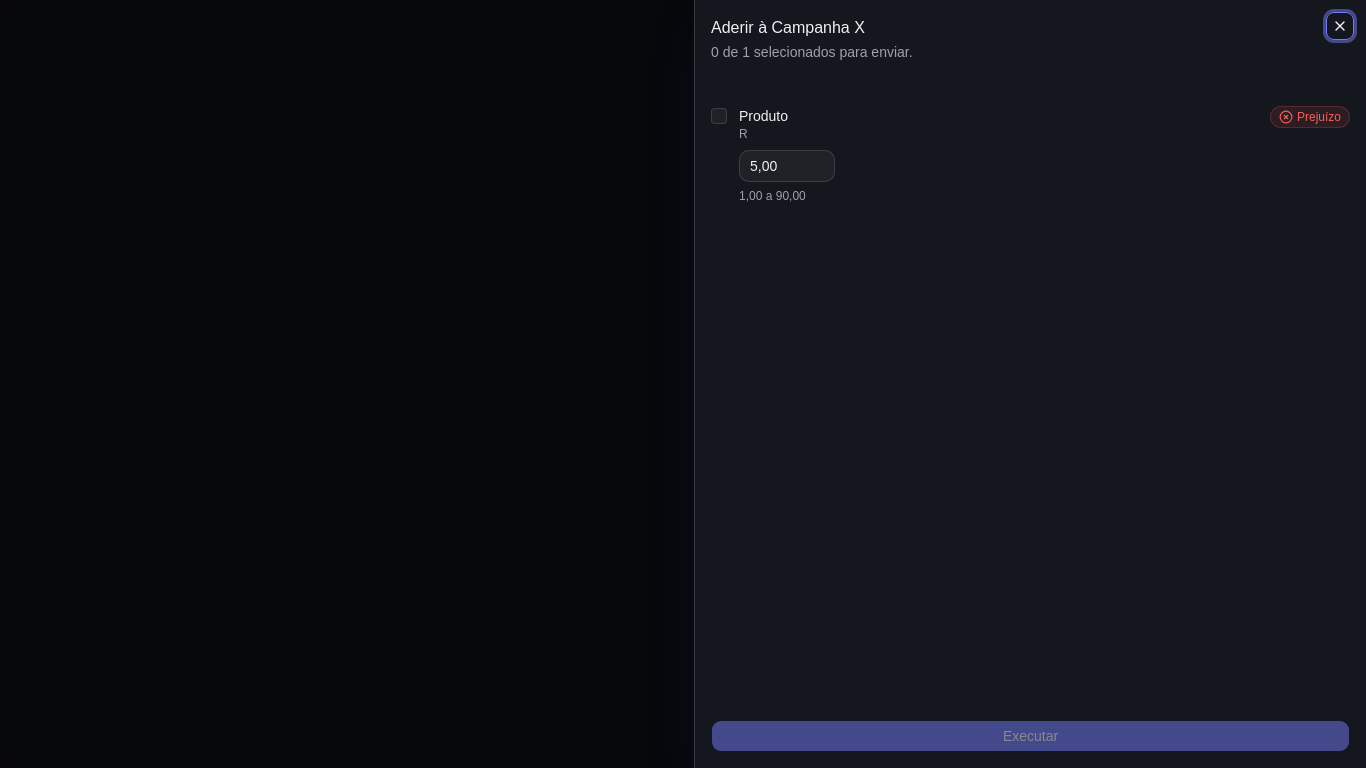
PreviewOperacao › item vermelho marcado exige o checkbox de risco para habilitar Executar
Click the checkbox named "Selecionar R" at (719, 116), box [711,108,727,124]
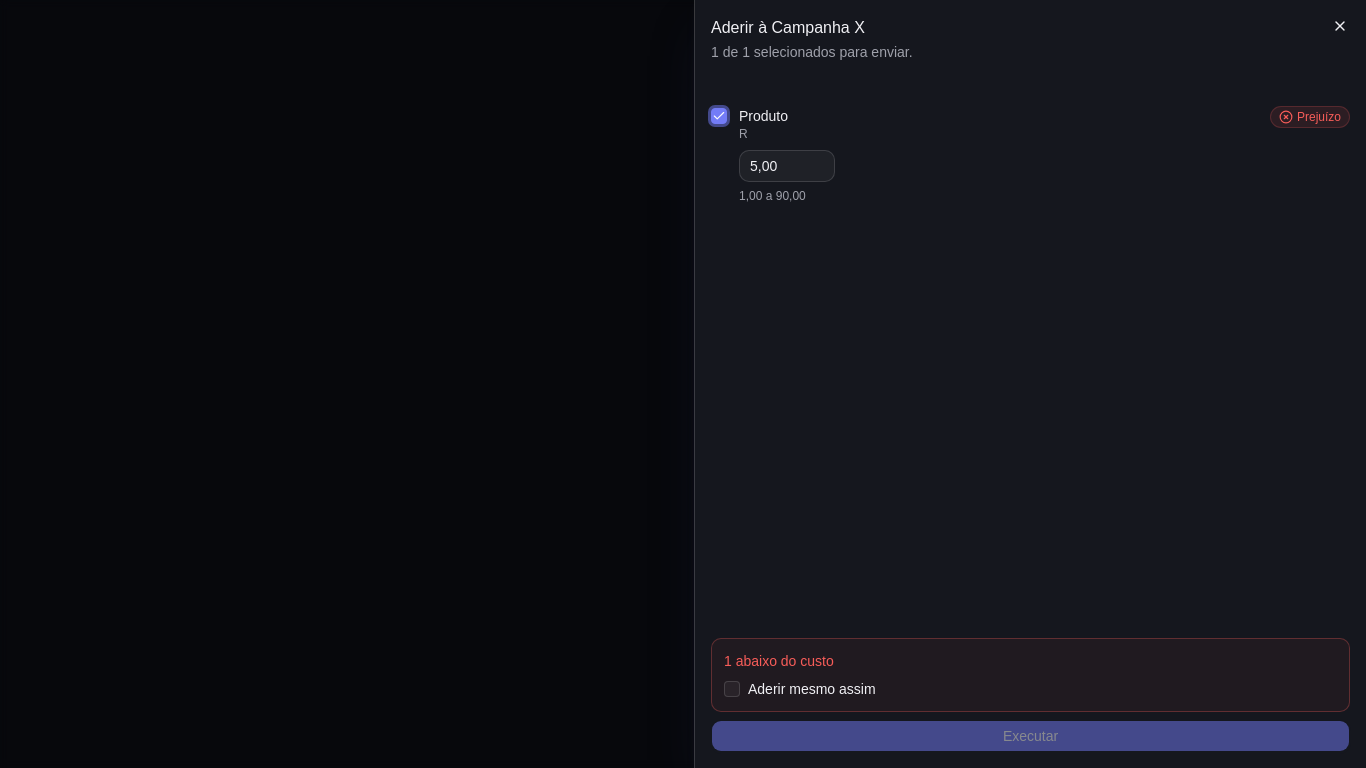
Expected: the button "Executar" is disabled, [711,720,1350,752]
Click the checkbox named "Aderir mesmo assim" at (732, 689), box [724,681,740,697]
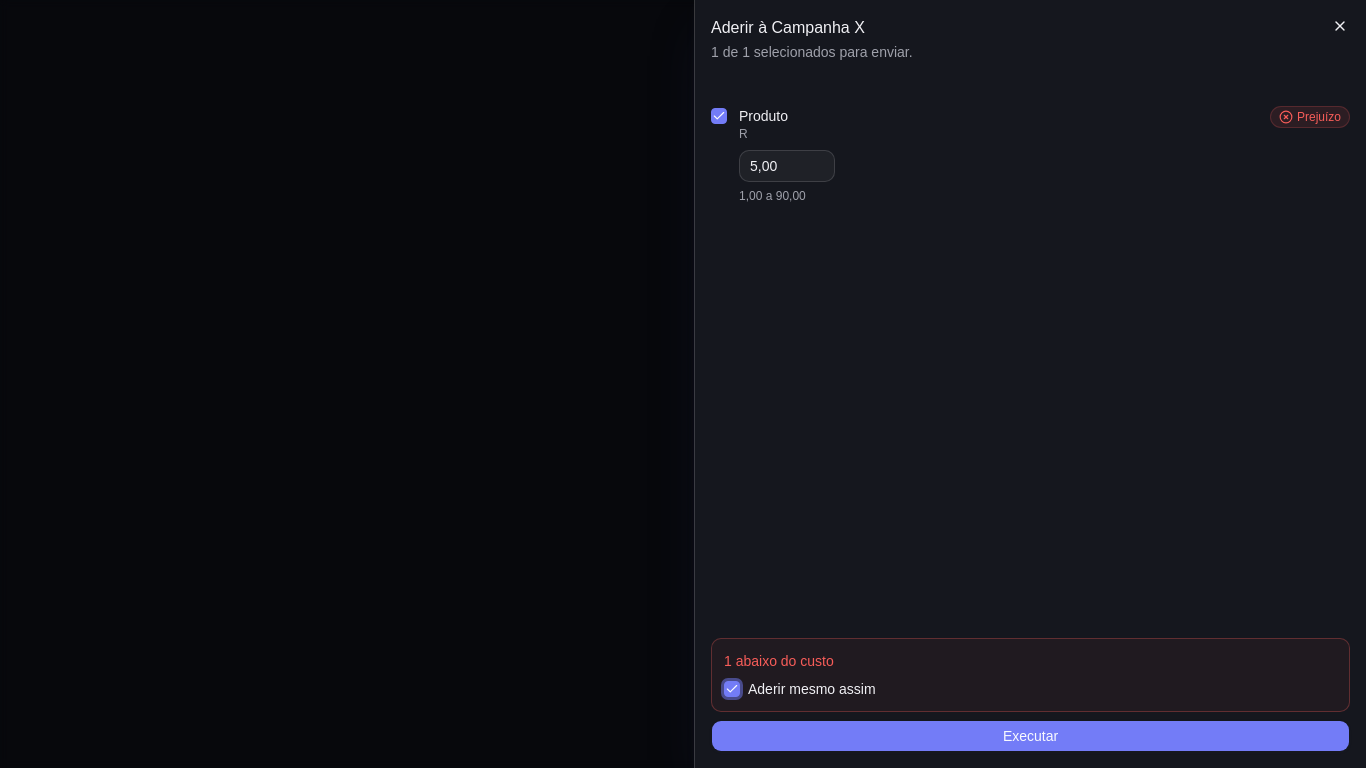
Expected: the button "Executar" is enabled, [711,720,1350,752]
